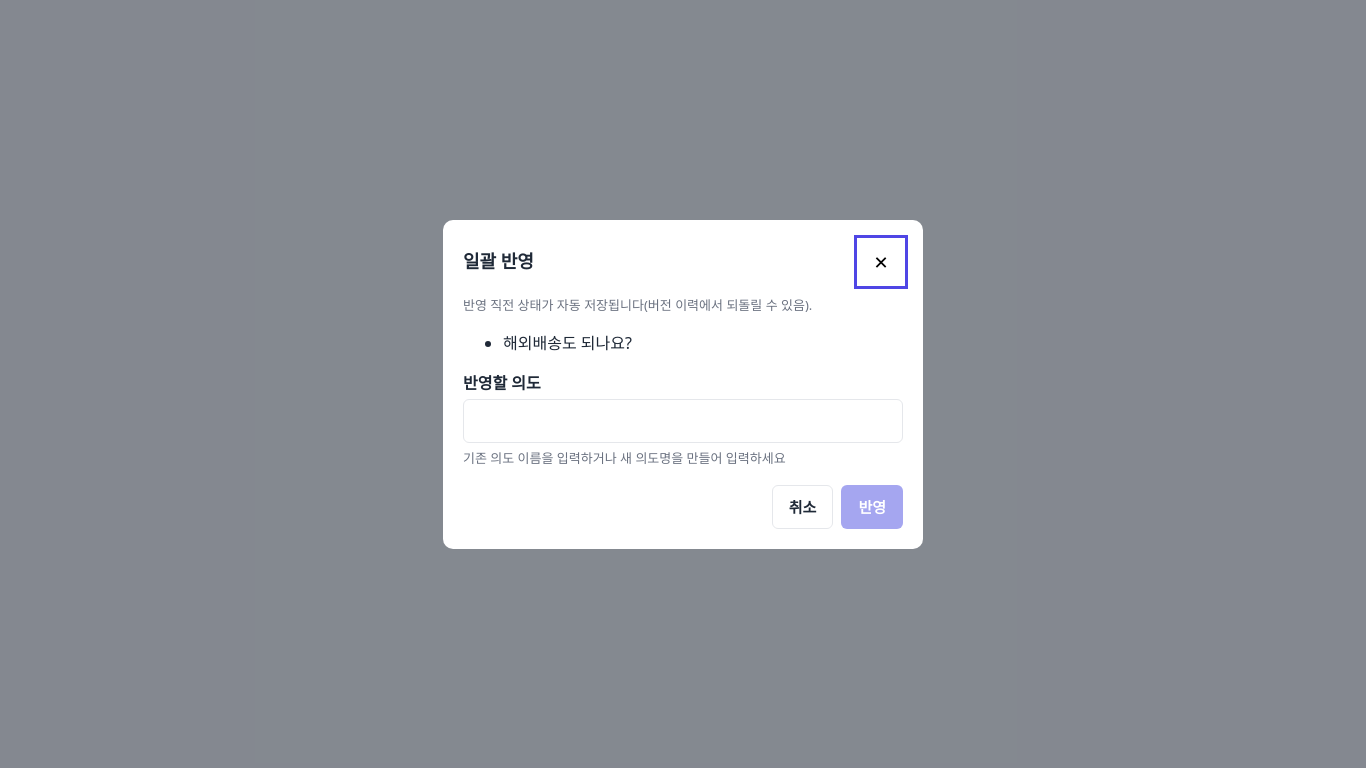
BulkResolveModal — 디바운스 서버 검색 › 디바운스 검색 결과에서 일치하는 의도를 찾으면 "기존 의도에 추가됩니다" 안내로 바뀐다(초기 100건 밖의 의도)
Type "검색으로만찾는의도" into the field labelled "반영할 의도". click: (683, 421)
box: [463,399,903,443]
Wait 350 ms
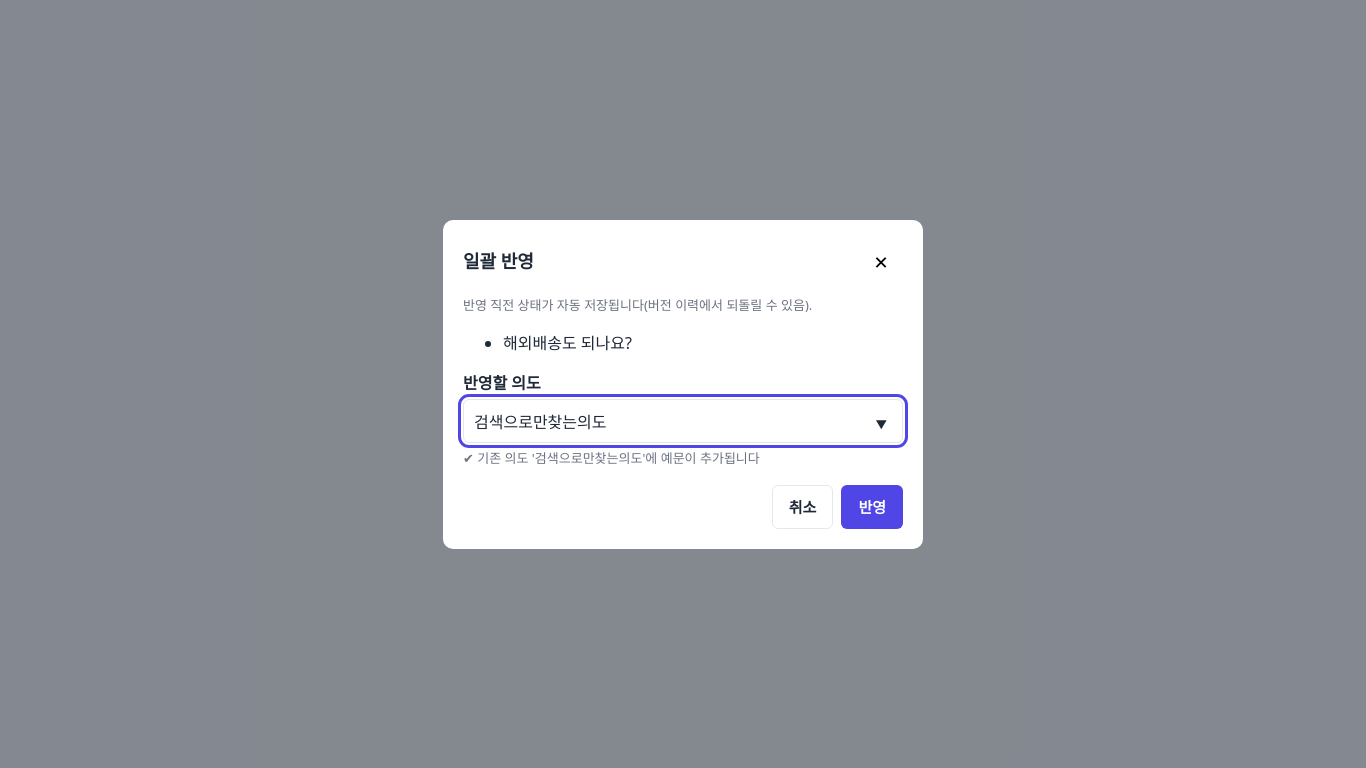
Result: the text "✔ 기존 의도 '검색으로만찾는의도'에 예문이 추가됩니다" is shown at [463,449,760,467]
